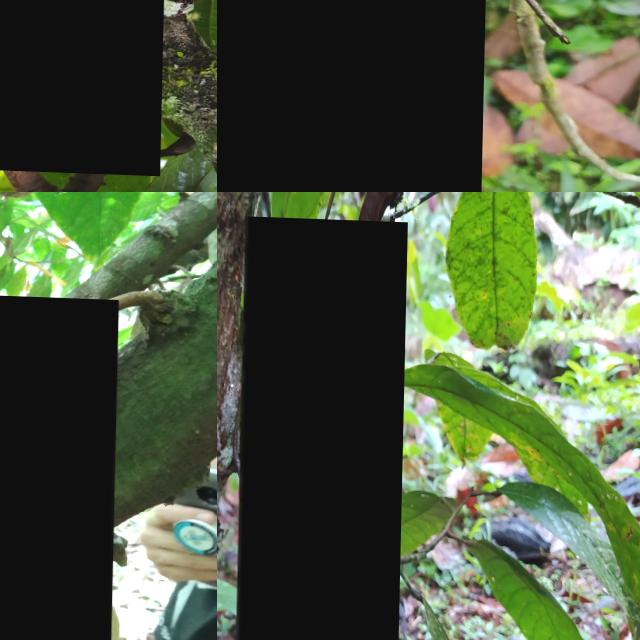Fitoftora: (217, 0, 490, 192), (0, 288, 119, 640)
Monilia: (236, 214, 407, 640), (0, 0, 171, 172)
Sana: (81, 596, 130, 640)
